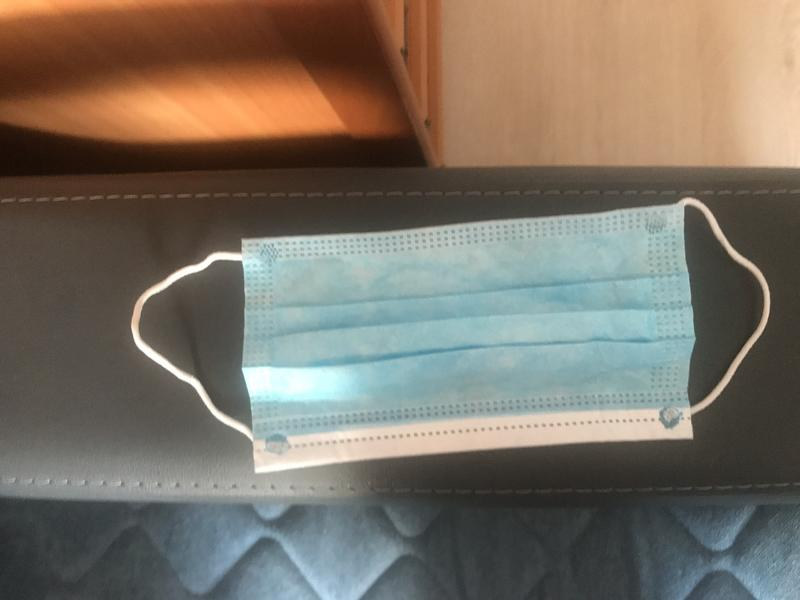medical_mask: (130, 195, 772, 474)
